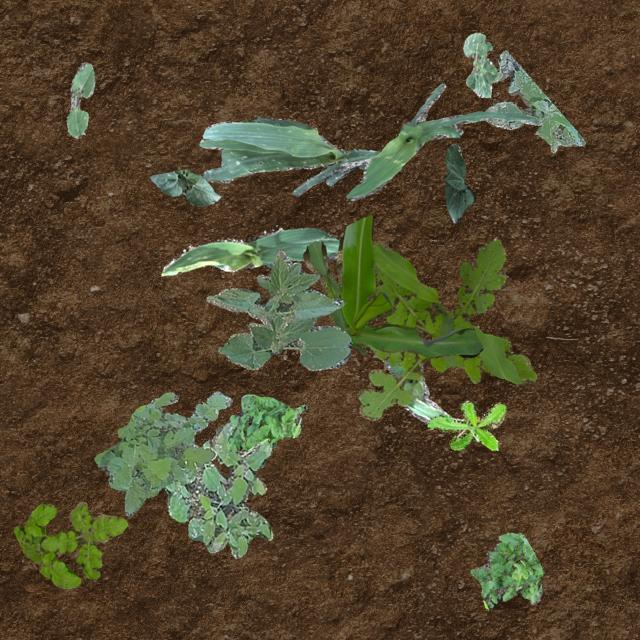crop: (302, 215, 482, 356), (338, 82, 540, 200), (205, 250, 352, 370), (198, 116, 376, 194), (160, 227, 338, 276), (362, 341, 464, 422), (150, 168, 220, 206), (444, 142, 474, 222), (462, 32, 496, 96), (66, 61, 94, 138)
weed: (356, 238, 536, 420), (94, 390, 232, 514), (162, 422, 276, 558), (12, 500, 126, 588), (484, 50, 584, 150), (470, 532, 542, 608), (226, 394, 306, 451), (426, 398, 506, 448)
